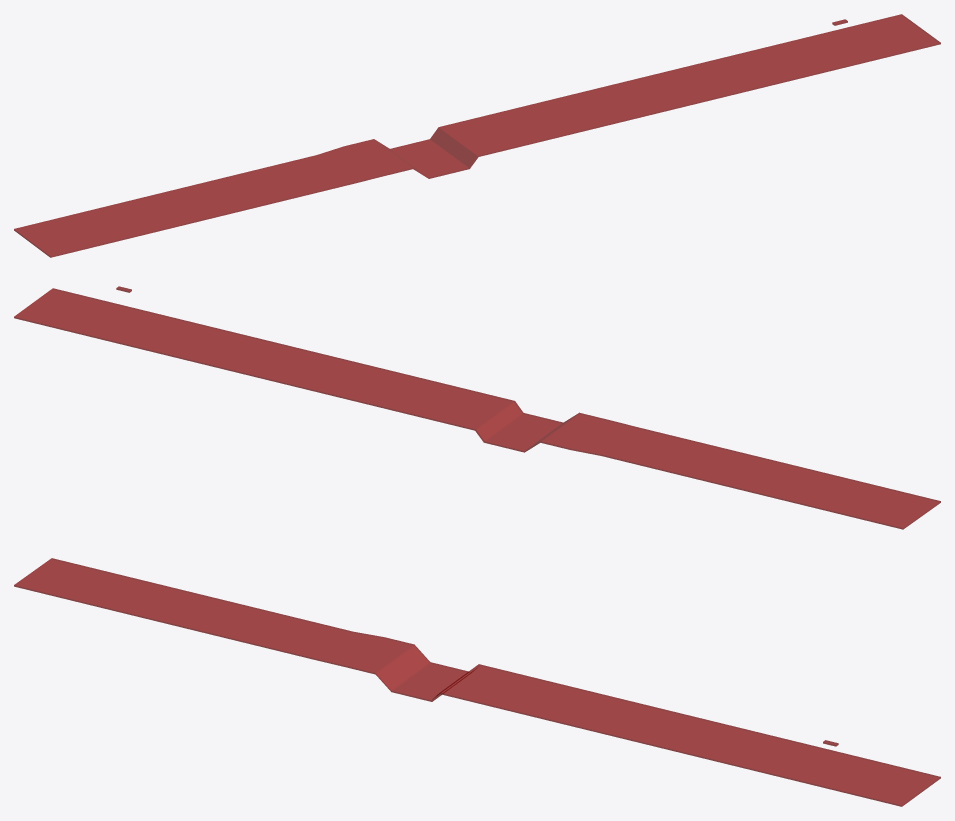
The model's file is _death.obj.
The picture shows the model from 3 angles, top to bottom: view 1: azimuth 30°, elevation 25°; view 2: azimuth 150°, elevation 25°; view 3: azimuth 330°, elevation 25°; orthographic projection.
Bounding box in the file's own units: 1648 × 75.32 × 125.
